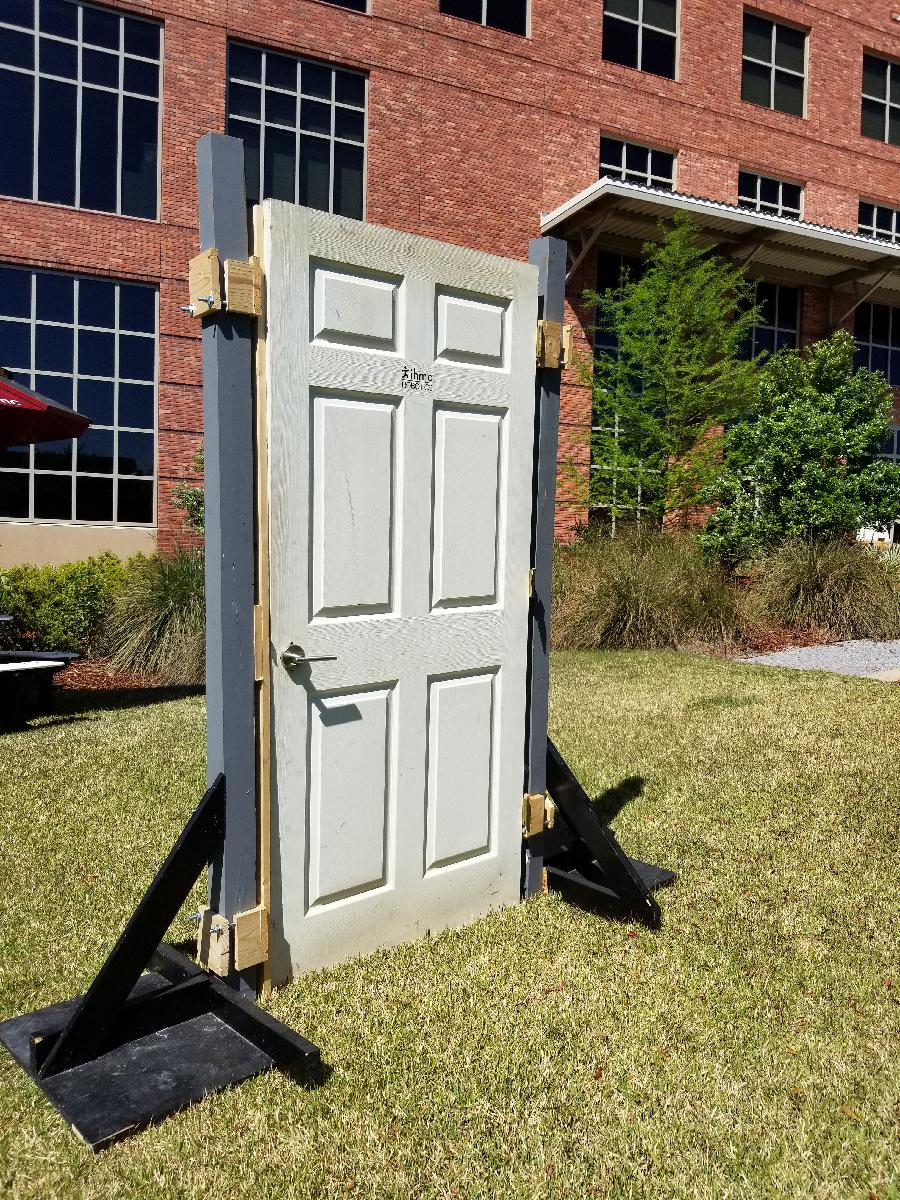door: (248, 196, 546, 1000)
doorHandle: (280, 644, 345, 679)
